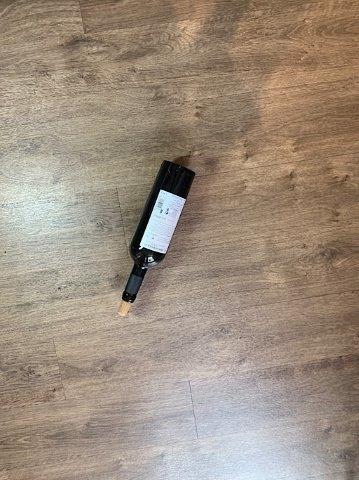botolkaca: (119, 160, 196, 317)
